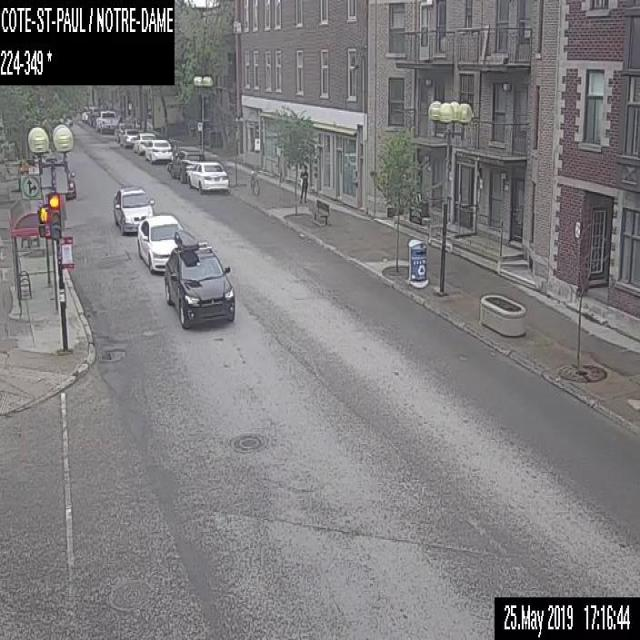pedestrian: (299, 163, 307, 201)
vehicle: (163, 230, 234, 330), (137, 214, 182, 272), (112, 186, 154, 234), (187, 160, 227, 193), (170, 149, 203, 181), (144, 138, 172, 163), (96, 109, 118, 133), (133, 132, 155, 153), (119, 128, 138, 148)
